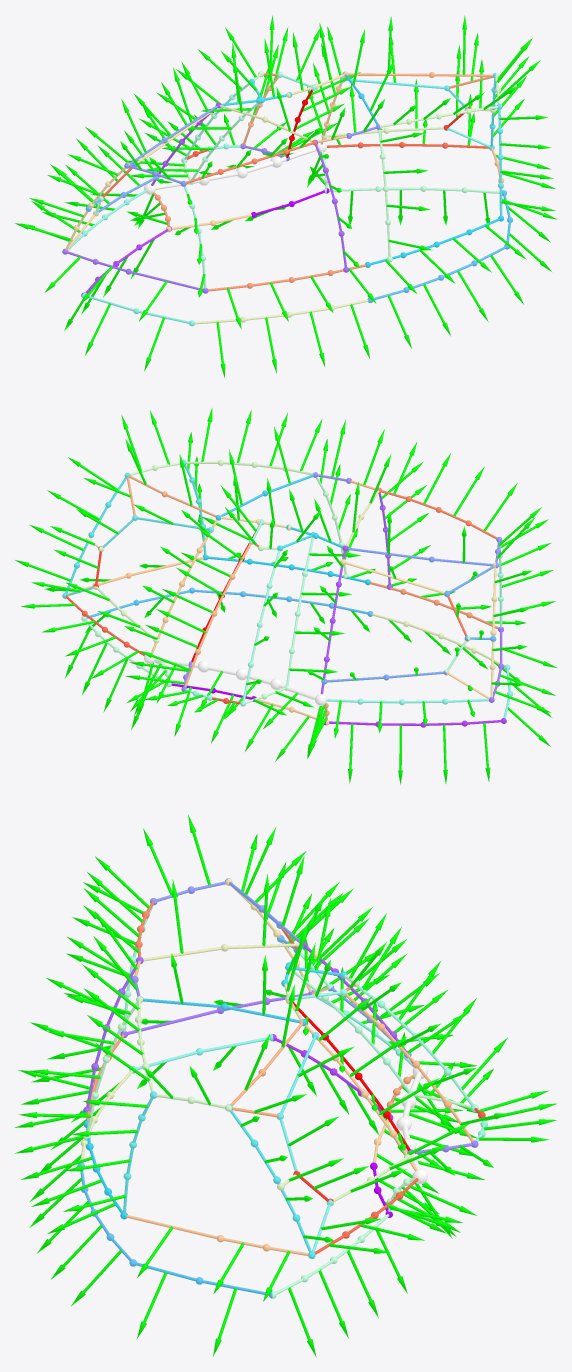
File: ils_speaker.gltf
The picture shows the model from 3 angles, top to bottom: view 1: azimuth 30°, elevation 25°; view 2: azimuth 150°, elevation 25°; view 3: azimuth 270°, elevation 25°; orthographic projection. The views are drawn at different scales.
Size of the model in its own units: 0.9664 by 0.4547 by 0.7091.
